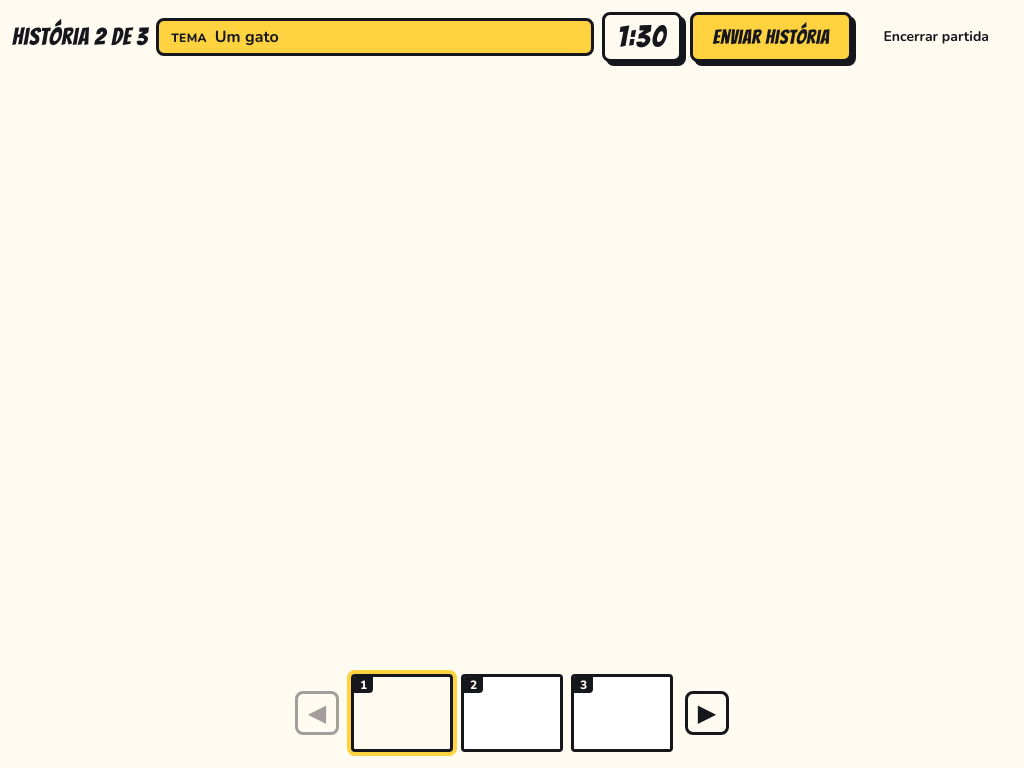
tela de desenho da história completa (modo individual) › R65: a faixa numera os quadros e cada um guarda o próprio desenho
Step 1. Click the button "3" → click(622, 713), box [571, 674, 673, 752]
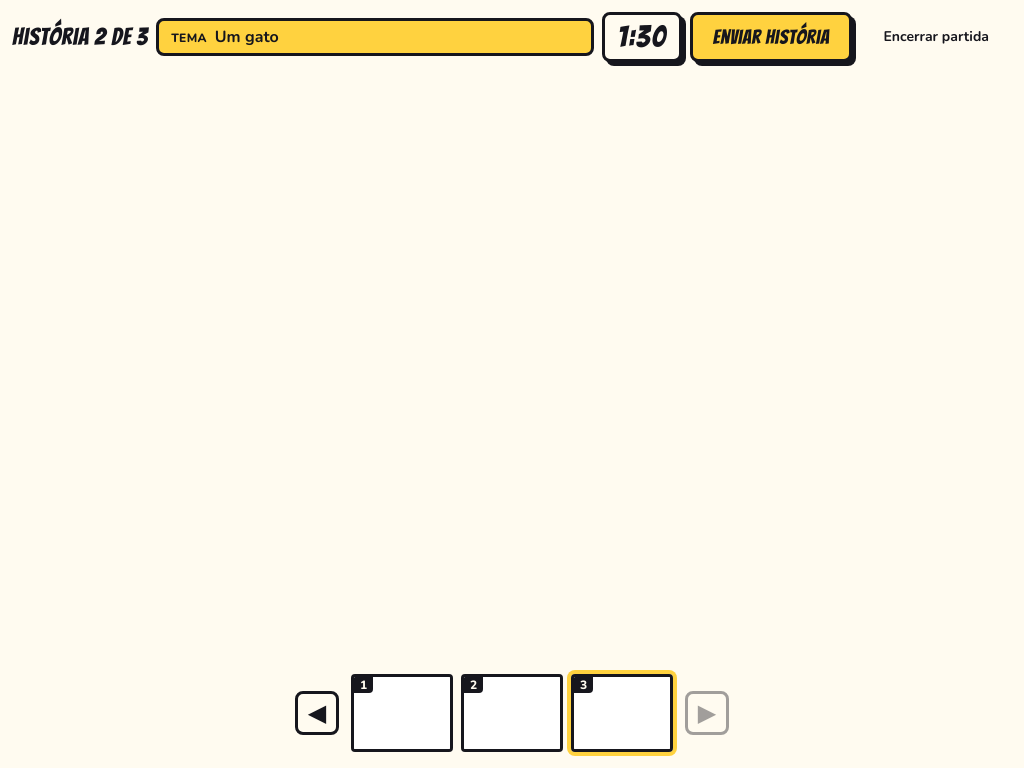
Step 2. Click the button named "Quadro anterior" → click(317, 713), box [295, 691, 339, 735]
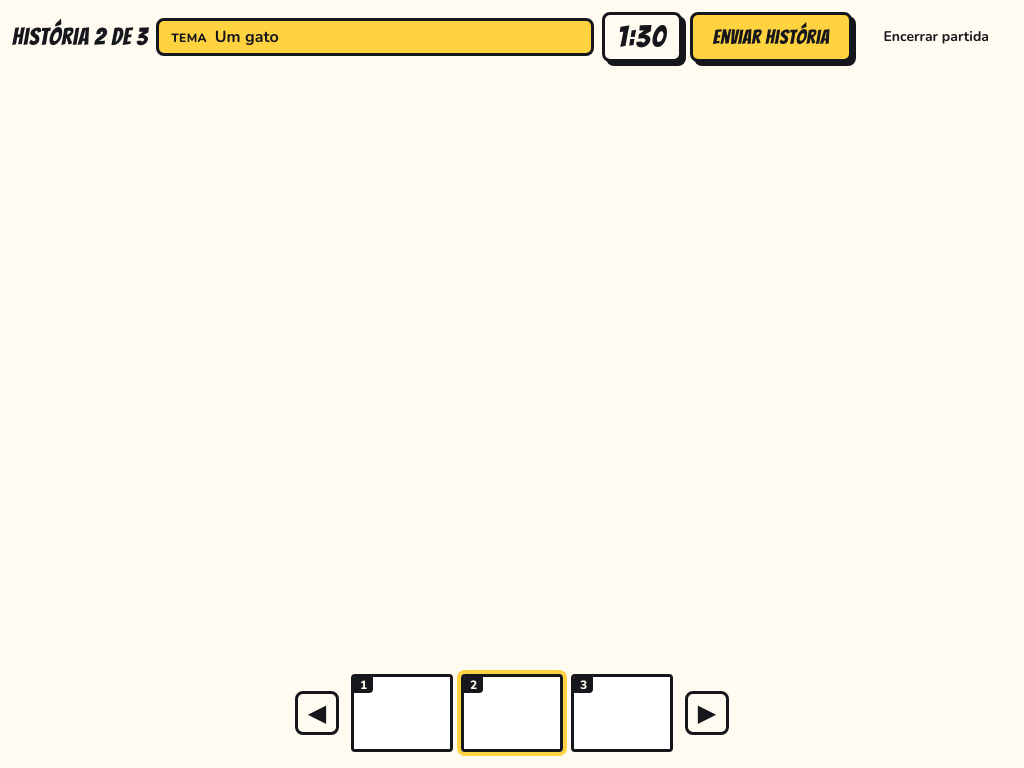
Step 3. Press ArrowLeft
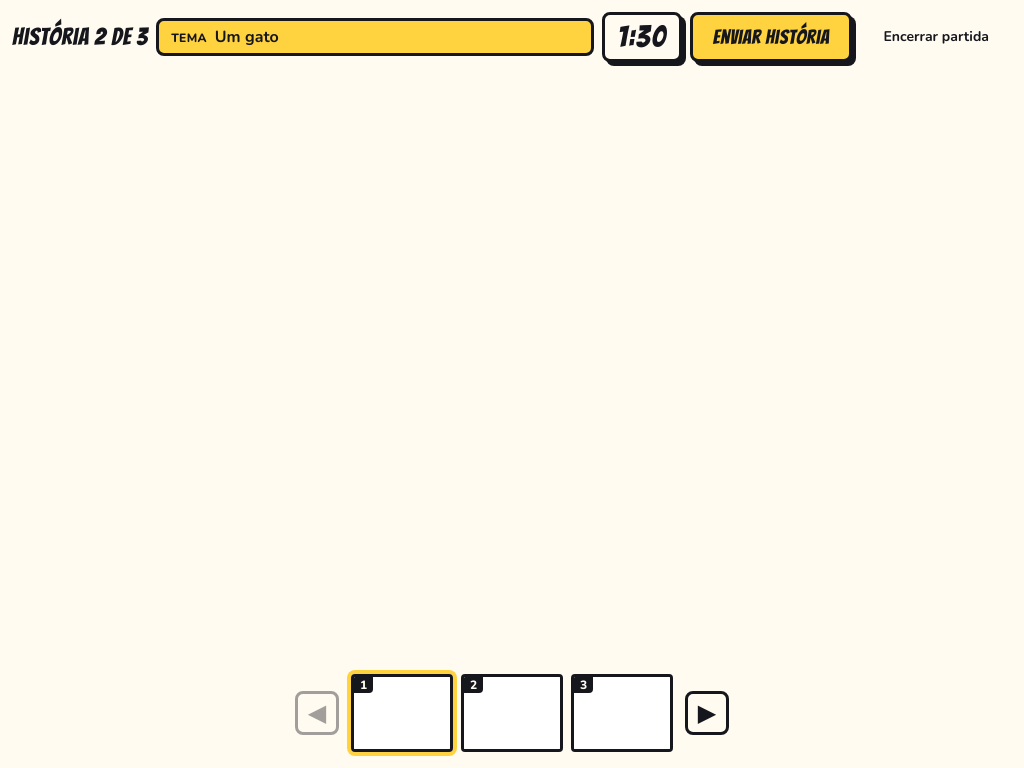
Expected: the button named "Quadro anterior" is disabled, [295, 691, 339, 735]
